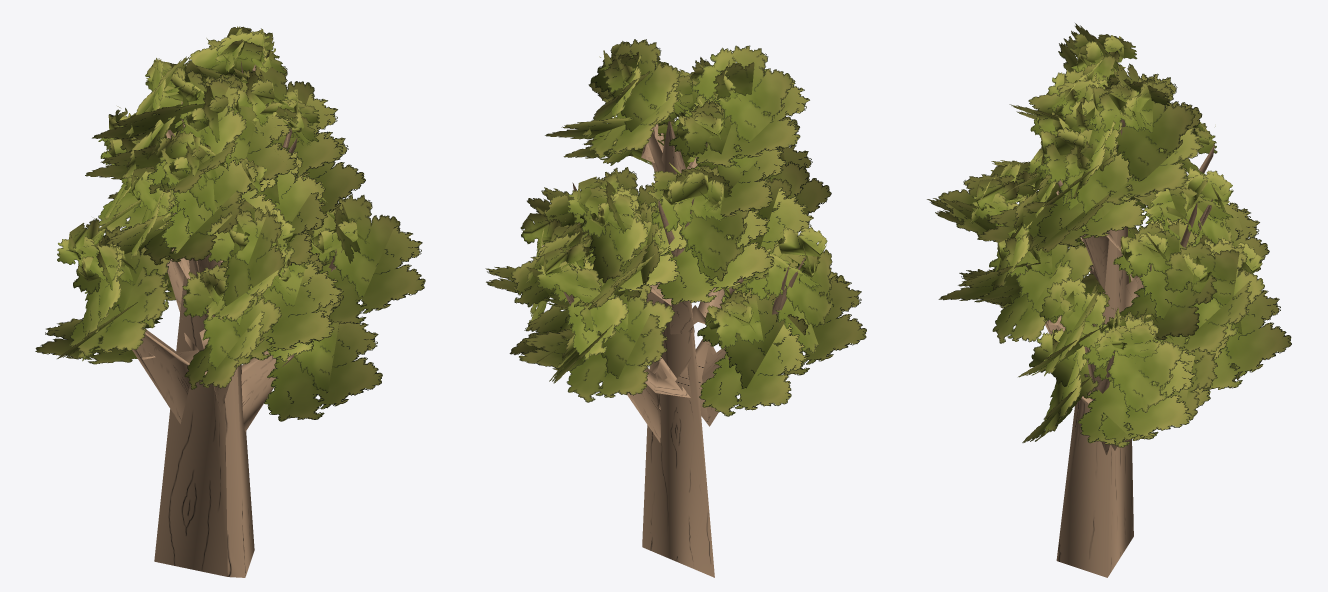
The model's file is tree_a_LOD2.fbx.
3 views of the same model, side by side, from view 1: azimuth 30°, elevation 25°; view 2: azimuth 150°, elevation 25°; view 3: azimuth 270°, elevation 25° (orthographic). The views are drawn at different scales.
Visible parts, largest first — view 1: tree_a_LOD2; view 2: tree_a_LOD2; view 3: tree_a_LOD2.
Part boxes in pixels (x1,y1,x2,y2): tree_a_LOD2: (35, 26, 425, 577); tree_a_LOD2: (485, 39, 866, 577); tree_a_LOD2: (927, 23, 1291, 577).
Bounding box in the file's own units: 491 × 657 × 450.
